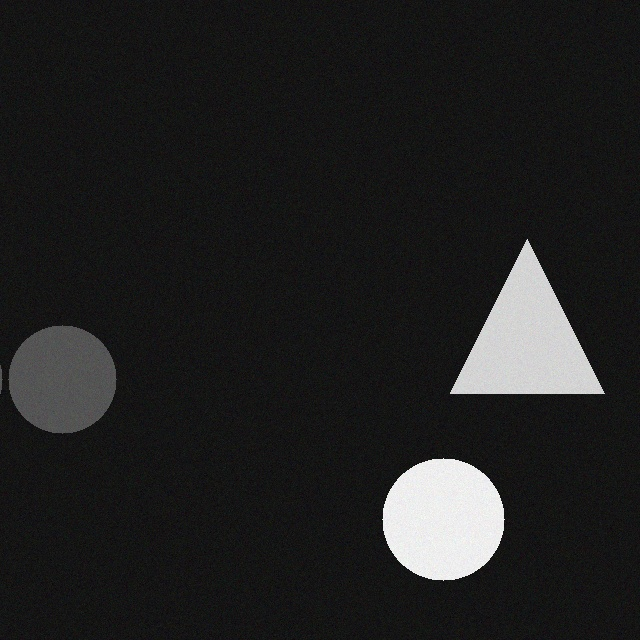circle: (377, 462, 499, 584), (3, 329, 111, 437)
triangle: (445, 243, 599, 397)
